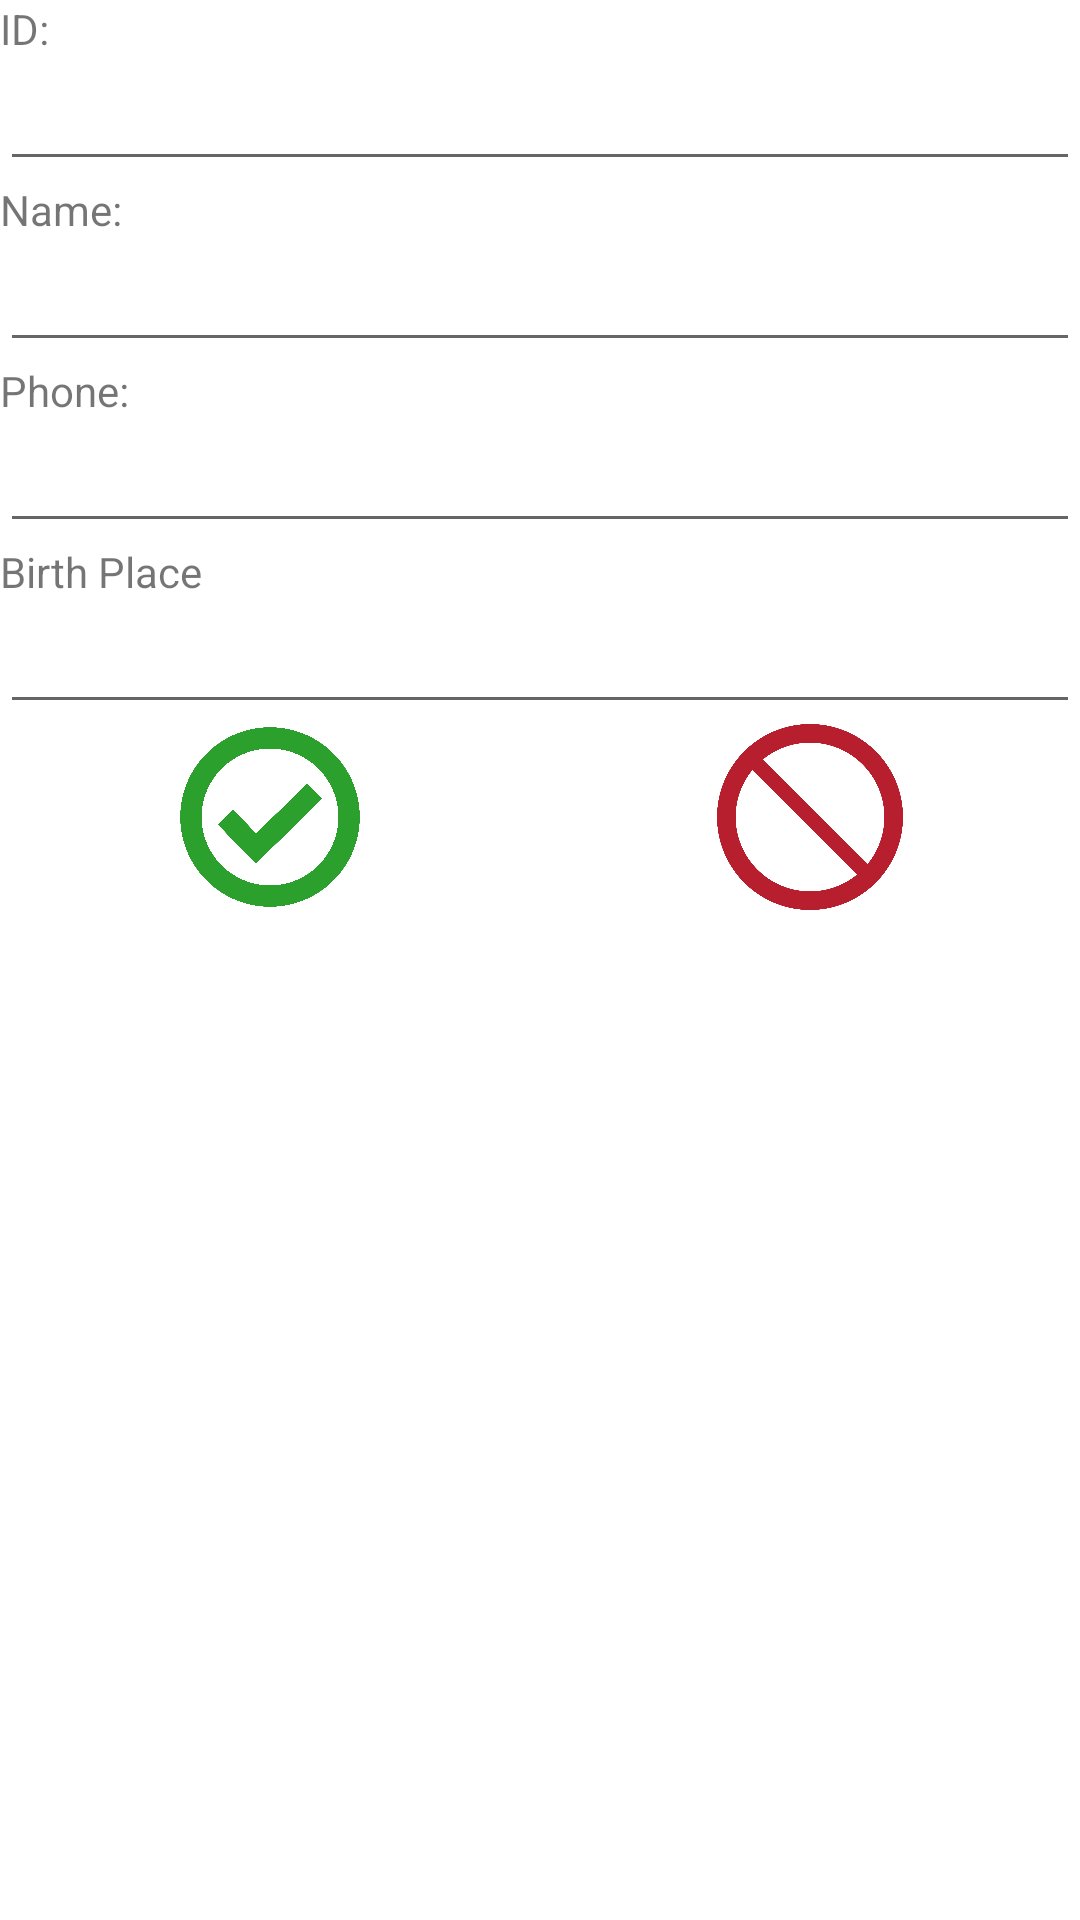

Named icons in this screenshot (1080x1920) and their bounding boxes, Rect(x1, y1, x2, y2):
yes: Rect(180, 727, 360, 907)
